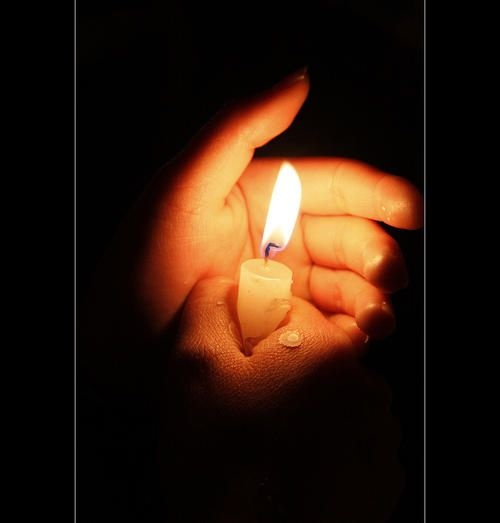fire: (255, 157, 305, 259)
